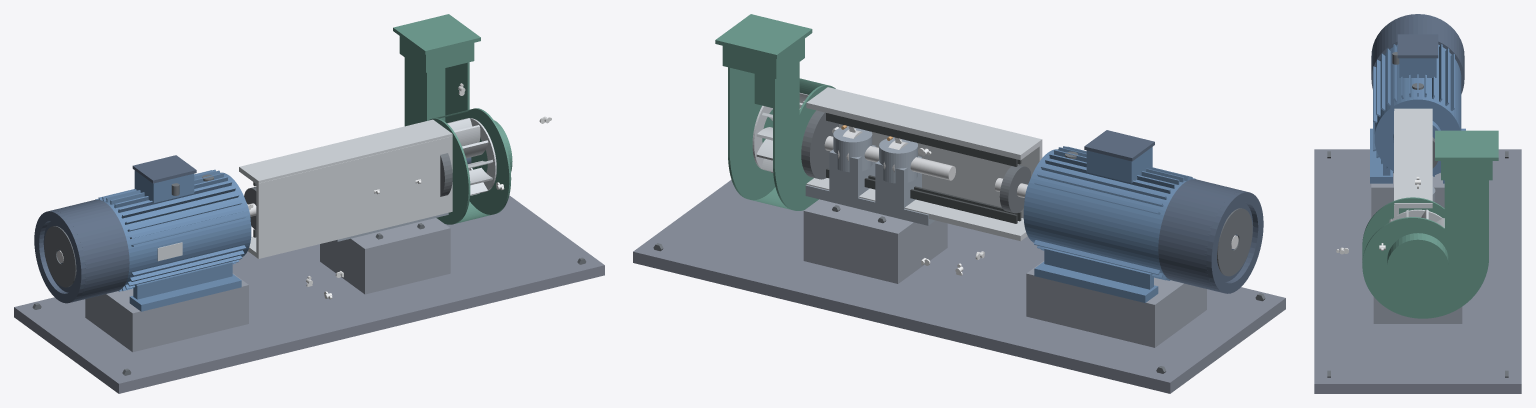
Rendered from blower.glb.
3 renders of one model, left to right at view 1: azimuth 30°, elevation 25°; view 2: azimuth 150°, elevation 25°; view 3: azimuth 270°, elevation 25°, orthographic. The views are drawn at different scales.
Parts seen in each view (by area): view 1: PART_001, CASING_BELTGUARD_045, CASING_MOTORBODY_006, PART_022, CASING_FINS_009, CASING_COWL_010, CASING_BELTGUARD_047, PART_055, CASING_BLOWERHOUSING_073, CASING_BLOWERHOUSING_072, PART_066, CASING_COWL_011 (+11 smaller); view 2: PART_001, CASING_MOTORBODY_006, PART_022, CASING_BELTGUARD_047, CASING_COWL_010, PART_055, CASING_BLOWERHOUSING_072, CASING_FINS_009, CASING_BLOWERHOUSING_073, CASING_BELTGUARD_045, PART_066, CASING_BLOWERHOUSING_078 (+22 smaller); view 3: PART_001, CASING_BLOWERHOUSING_073, CASING_BELTGUARD_047, CASING_INLET_094, CASING_FINS_009, CASING_COWL_010, CASING_MOTORBODY_006, CASING_ENDBELL_007, CASING_BLOWERHOUSING_078, CASING_BLOWERHOUSING_072, PART_014, CASING_BLOWERHOUSING_077 (+6 smaller).
Part boxes in pixels (x1,y1,x2,y2): PART_001: (14,195,604,393); CASING_BELTGUARD_045: (256,136,452,256); CASING_MOTORBODY_006: (104,172,250,286); PART_022: (85,273,248,352); CASING_FINS_009: (95,169,246,291); CASING_COWL_010: (43,199,129,301); CASING_BELTGUARD_047: (239,119,455,185); PART_055: (320,228,408,294); CASING_BLOWERHOUSING_073: (445,62,511,214); CASING_BLOWERHOUSING_072: (404,57,470,224); PART_066: (393,218,450,283); CASING_COWL_011: (34,210,87,303); PART_001: (633,180,1285,393); CASING_MOTORBODY_006: (1024,149,1186,274); PART_022: (1026,261,1206,347); CASING_BELTGUARD_047: (803,87,1042,160); CASING_COWL_010: (1158,179,1253,291); PART_055: (849,211,947,283); CASING_BLOWERHOUSING_072: (773,62,835,210); CASING_FINS_009: (1034,146,1195,280); CASING_BLOWERHOUSING_073: (728,67,775,200); CASING_BELTGUARD_045: (839,124,1042,218); PART_066: (803,199,867,271); CASING_BLOWERHOUSING_078: (715,14,812,58); PART_001: (1314,149,1521,393); CASING_BLOWERHOUSING_073: (1362,180,1488,318); CASING_BELTGUARD_047: (1394,108,1432,208); CASING_INLET_094: (1387,233,1448,295); CASING_FINS_009: (1373,44,1454,176); CASING_COWL_010: (1371,16,1464,93); CASING_MOTORBODY_006: (1374,44,1461,133); CASING_ENDBELL_007: (1374,95,1461,175); CASING_BLOWERHOUSING_078: (1435,130,1498,160); CASING_BLOWERHOUSING_072: (1362,197,1444,254); PART_014: (1397,34,1438,58); CASING_BLOWERHOUSING_077: (1441,161,1492,180).
Bounding box in the file's own units: 3.82 × 1.54 × 1.4.
